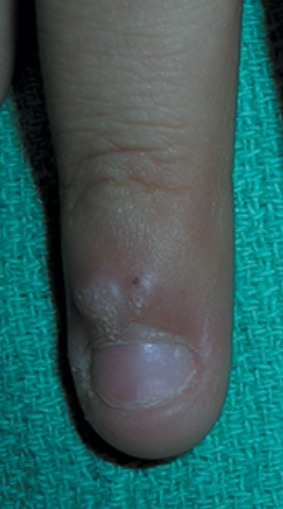Warts: (62, 253, 135, 351)
